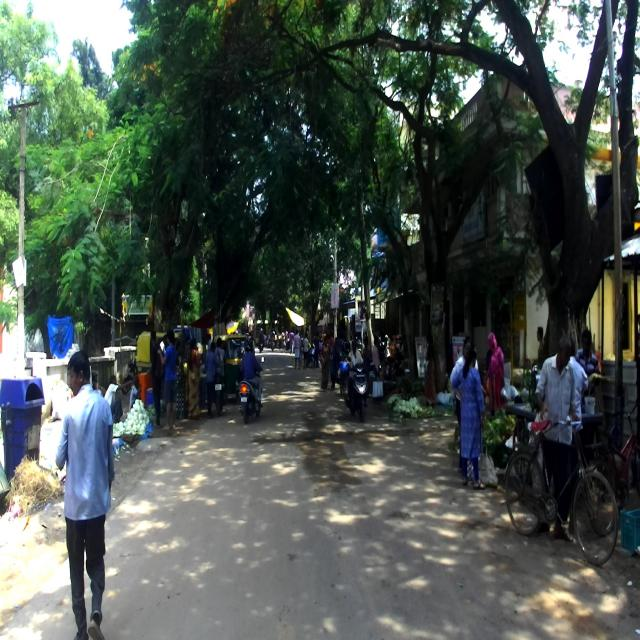scooter: (237, 356, 265, 424), (344, 356, 372, 423)
